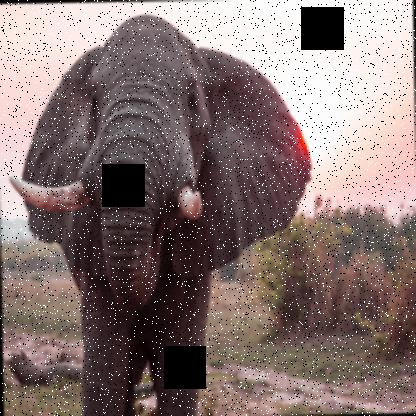Elephas-maximus: (5, 8, 315, 415)
